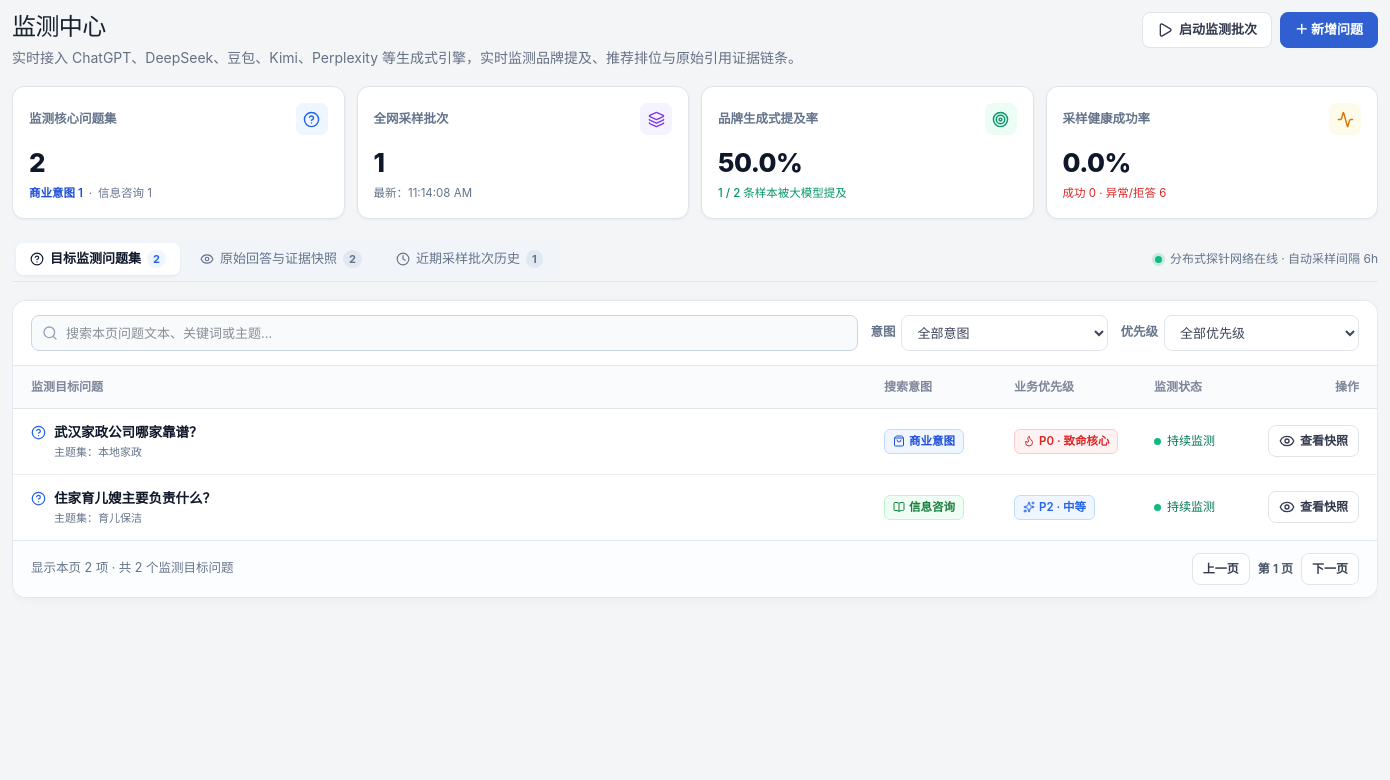
it: MonitorView Component Professional Redesign › filters target queries by search query
Expected: the text "武汉家政公司哪家靠谱？" is shown, 54,424 -> 202,440
Type "育儿嫂" into the field with placeholder "搜索本页问题文本、关键词或主题…" at (445, 333), box 31,315 -> 858,351
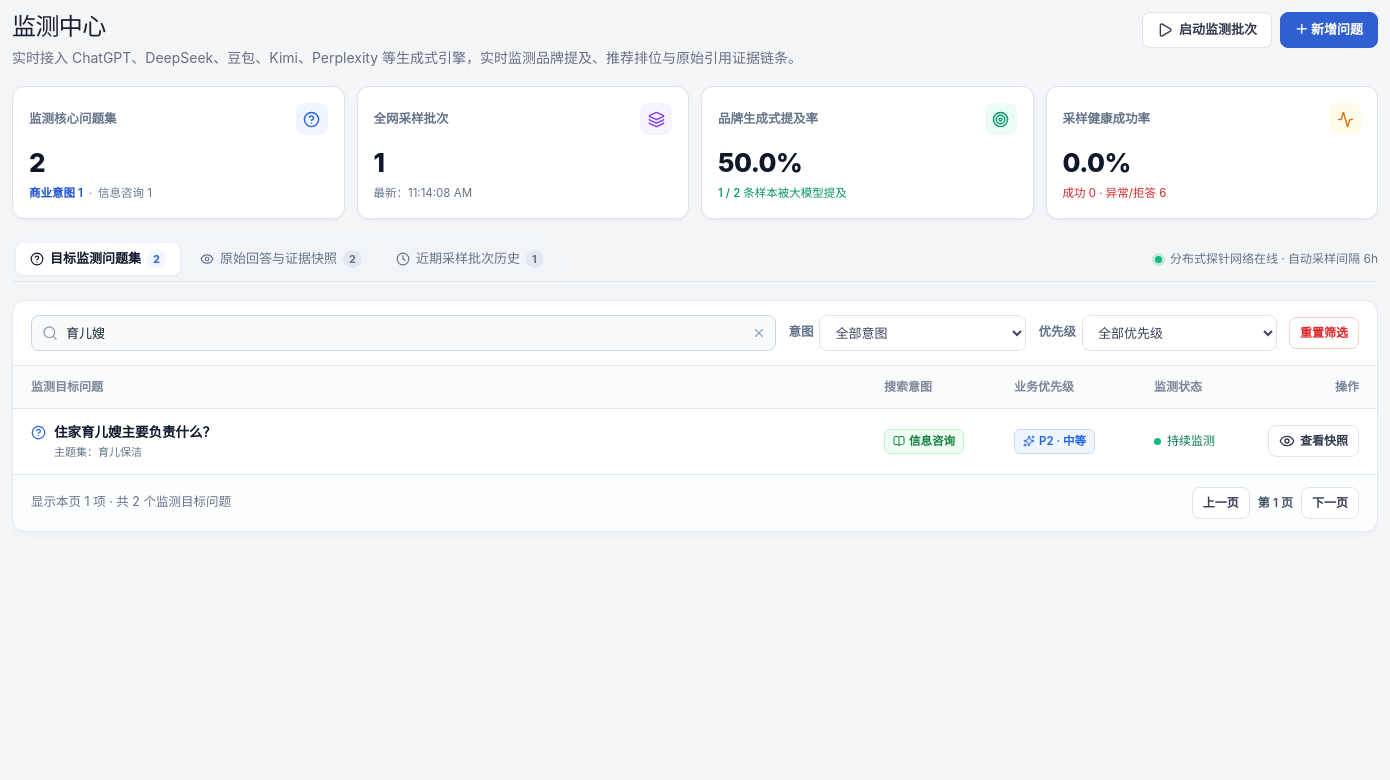
Expected: the text "住家育儿嫂主要负责什么？" is shown, 54,424 -> 216,440
Expected: the text "武汉家政公司哪家靠谱？" is gone
